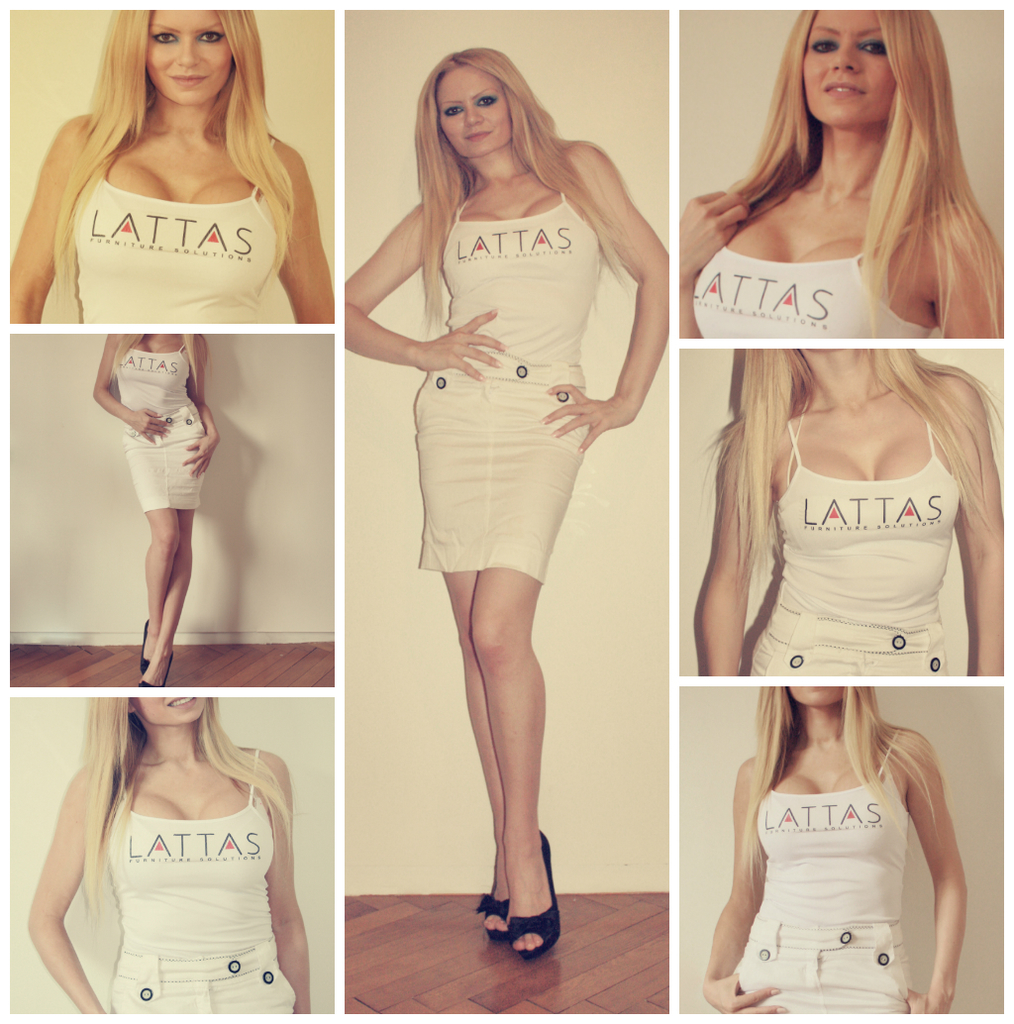person: (91, 333, 221, 686)
